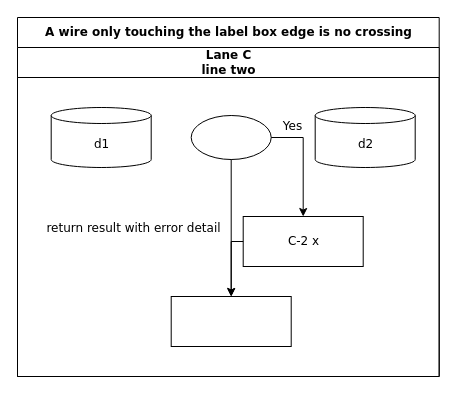
The diagram is 457 pixels wide and 394 high, and some of its shapes have lost their labels. The centre of each missing label's shape, as x and y in pixels:
C-1 x: point (230, 137)
C-3 x: point (230, 321)
